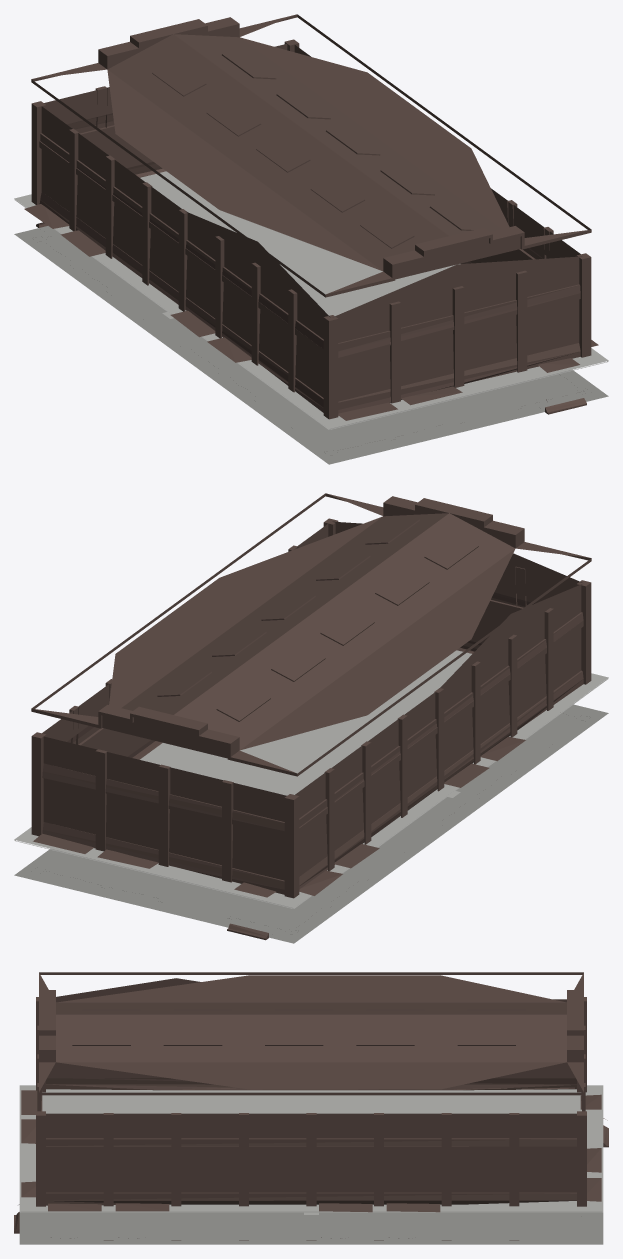
The model's file is ind-building-10.access-v8.lod2.glb.
3 views of the same model, one above another, from view 1: azimuth 30°, elevation 25°; view 2: azimuth 150°, elevation 25°; view 3: azimuth 270°, elevation 25° (orthographic). The views are drawn at different scales.
Visible parts, largest first — view 1: Industrial_Building_10_Material #2_0; view 2: Industrial_Building_10_Material #2_0; view 3: Industrial_Building_10_Material #2_0.
Boxes of the visible parts, x1,y1,x2,y2 form: Industrial_Building_10_Material #2_0: [14, 14, 608, 464]; Industrial_Building_10_Material #2_0: [14, 493, 608, 943]; Industrial_Building_10_Material #2_0: [14, 972, 608, 1244].
Bounding box in the file's own units: 43.5 × 25.82 × 83.27.
